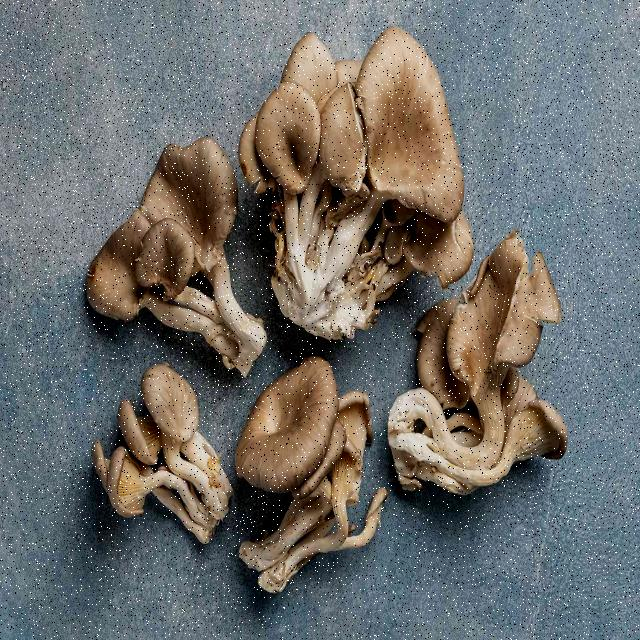Mushroom: (247, 39, 443, 347), (32, 346, 241, 589), (393, 275, 584, 532), (220, 375, 374, 630), (98, 122, 248, 366)
